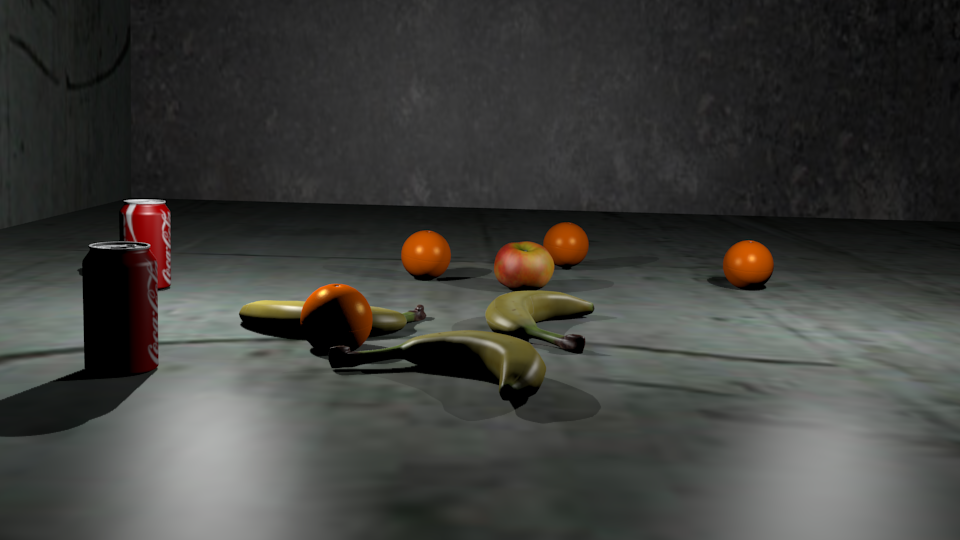apple: (217, 137, 300, 211), (741, 129, 804, 186), (495, 242, 555, 286), (633, 522, 709, 540)
banana: (315, 71, 503, 208), (377, 198, 503, 313), (331, 331, 547, 392), (486, 291, 595, 350), (240, 301, 427, 326)
cola_can: (90, 242, 159, 369), (122, 200, 171, 289), (488, 25, 530, 111)
orange: (301, 284, 373, 340), (54, 81, 122, 138), (402, 231, 451, 273), (724, 241, 774, 282), (544, 223, 589, 262)
